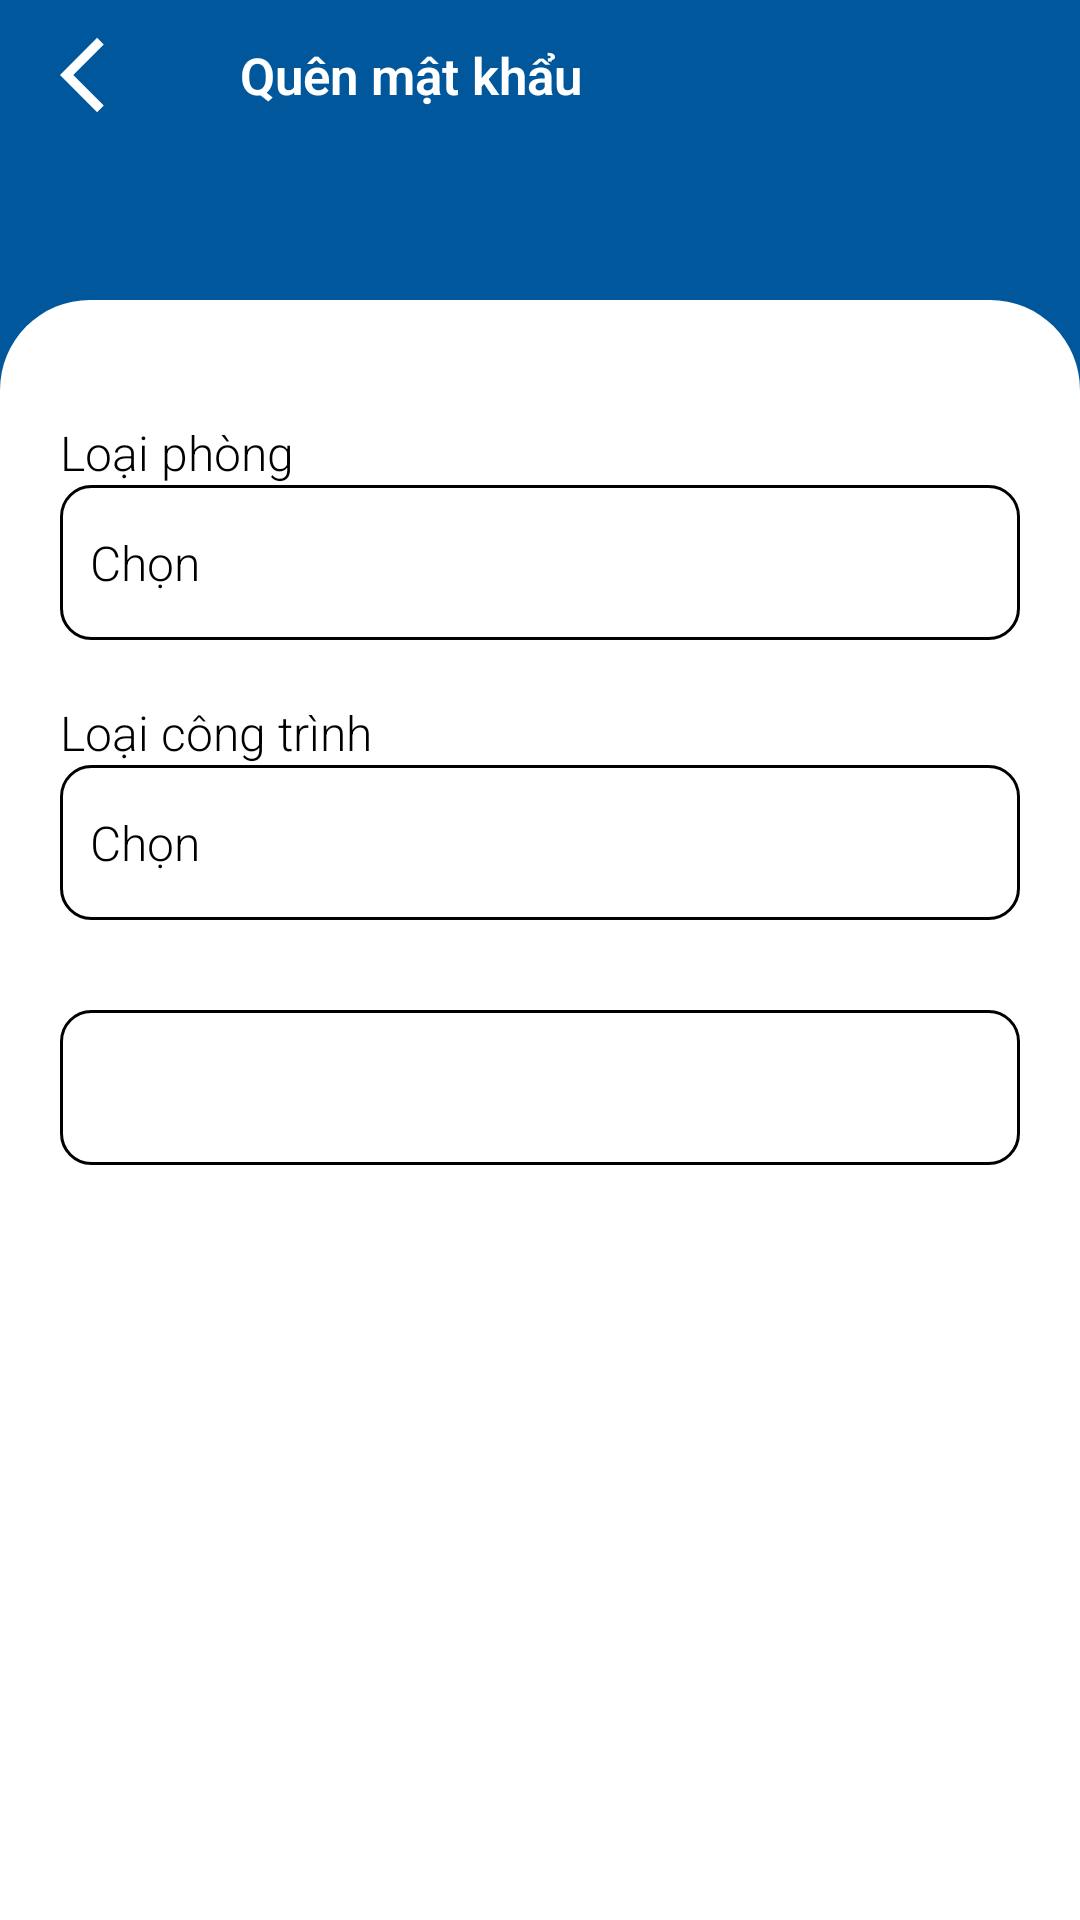

Icons on this 1080*1920 Android screen, each with its box as (x1,y1,x2,y2):
back: (60,38,104,112)
